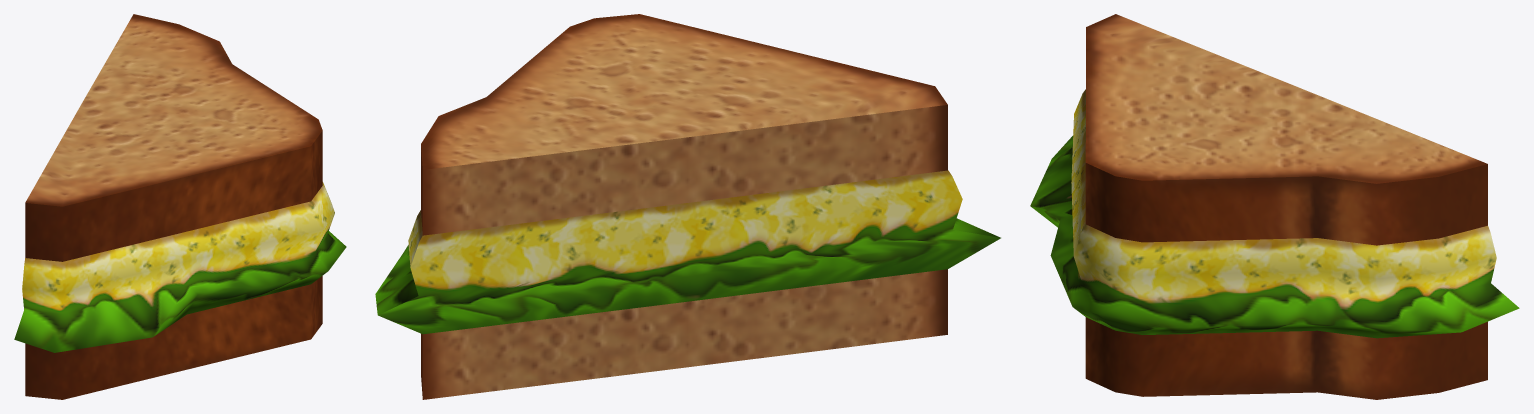
The model's file is 007-Sandwich_Egg_Half.FBX.
The picture shows the model from 3 angles, left to right: view 1: azimuth 30°, elevation 25°; view 2: azimuth 150°, elevation 25°; view 3: azimuth 270°, elevation 25°; orthographic projection. The views are drawn at different scales.
Visible parts, largest first — view 1: 007-Sandwich_Egg_Half; view 2: 007-Sandwich_Egg_Half; view 3: 007-Sandwich_Egg_Half.
Boxes of the visible parts, x1=… form: 007-Sandwich_Egg_Half: x1=14, y1=14, x2=346, y2=399; 007-Sandwich_Egg_Half: x1=375, y1=14, x2=1000, y2=399; 007-Sandwich_Egg_Half: x1=1030, y1=14, x2=1519, y2=399.
Size of the model in its own units: 18.91 by 9.34 by 19.19.
